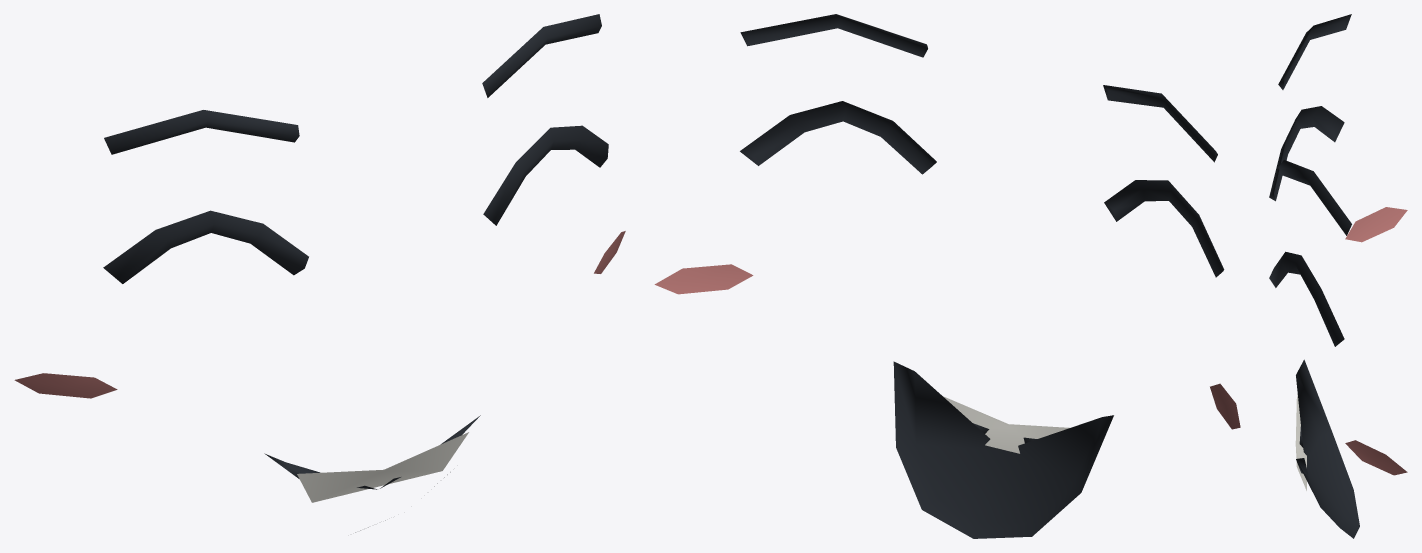
The model's file is face_smile_01.glb.
3 views of the same model, side by side, from view 1: azimuth 30°, elevation 25°; view 2: azimuth 150°, elevation 25°; view 3: azimuth 270°, elevation 25° (orthographic). The views are drawn at different scales.
Parts seen in each view (by area): view 1: Relief smile; view 2: Relief smile; view 3: Relief smile.
Part boxes in pixels (x1,y1,x2,y2): Relief smile: (14, 14, 625, 532); Relief smile: (654, 14, 1240, 538); Relief smile: (1269, 14, 1407, 538).
Size of the model in its own units: 0.234 by 0.178 by 0.0523.
